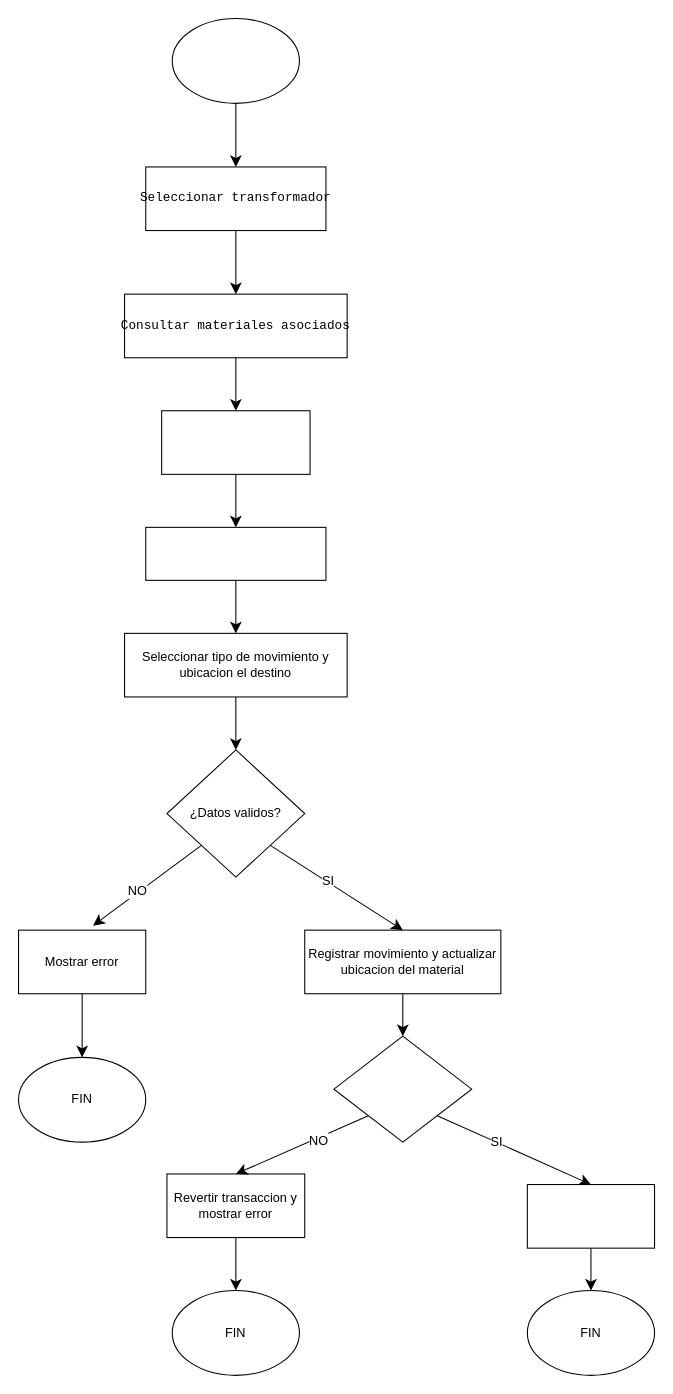
Image size: 673x1394. Some labels were removed from this diagram. The centre of each missing label's shape, as x and y in pixels:
Confirmar movimiento: point (590, 1215)
INICIO: point (235, 60)
Obtener ubicación actual: point (235, 553)
Seleccionar material: point (235, 442)
¿Operacion correcta?: point (402, 1088)
